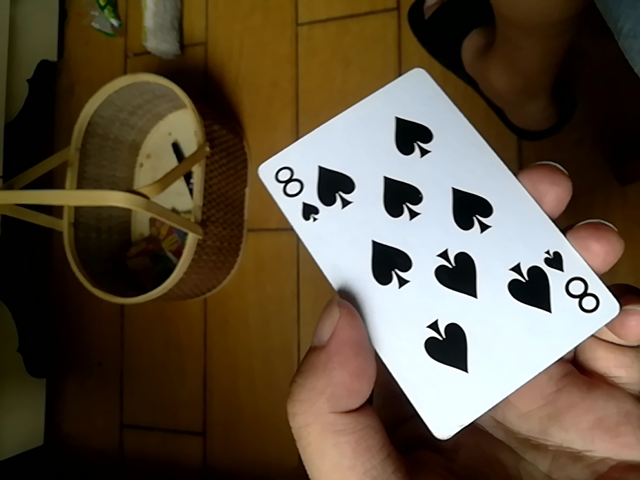ht 8: (257, 63, 620, 449)
